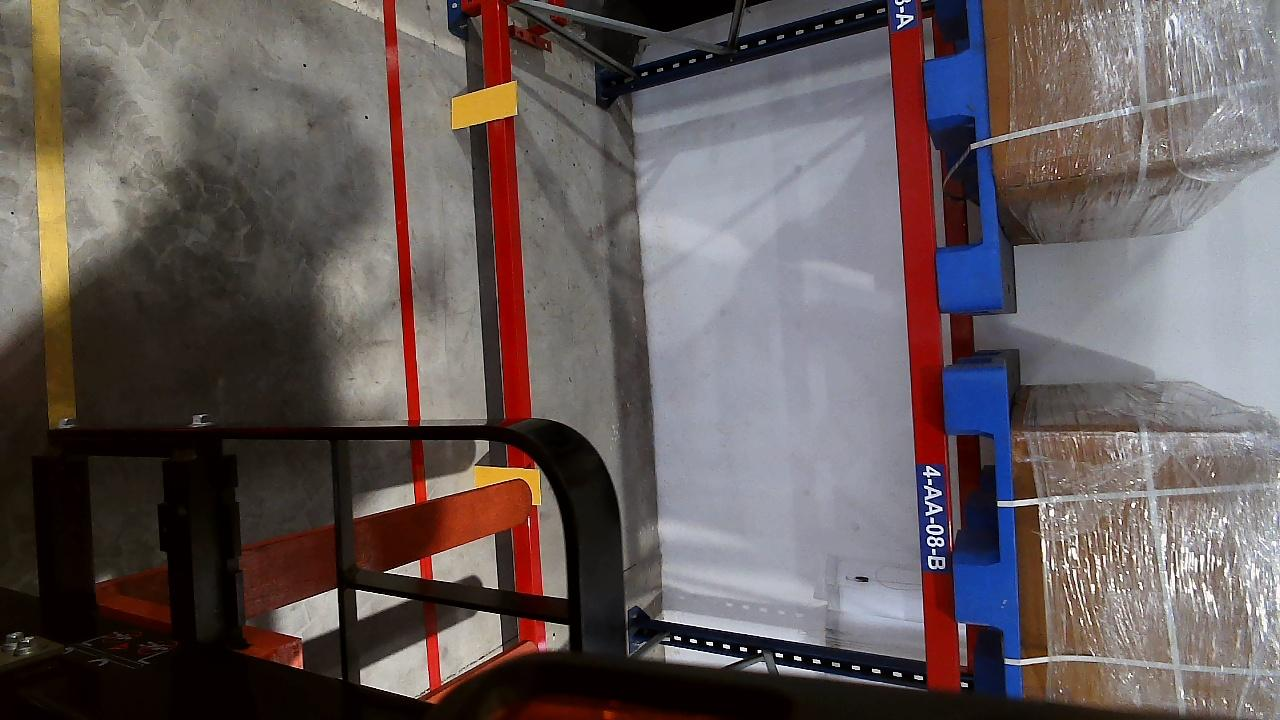h_rack: (474, 6, 548, 639), (894, 0, 955, 692)
orange_strip: (450, 82, 519, 129), (472, 465, 538, 488)
red_line: (380, 0, 447, 680)
small_pallet: (915, 1, 1008, 307), (942, 375, 1028, 690)
yellow_line: (30, 0, 74, 423)
